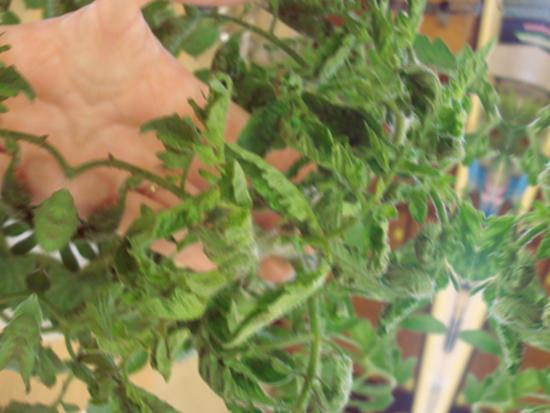Tomato leaf mosaic virus: (225, 236, 337, 367), (207, 143, 341, 241), (144, 171, 221, 259), (268, 107, 364, 176), (369, 284, 420, 346), (213, 393, 276, 413)
